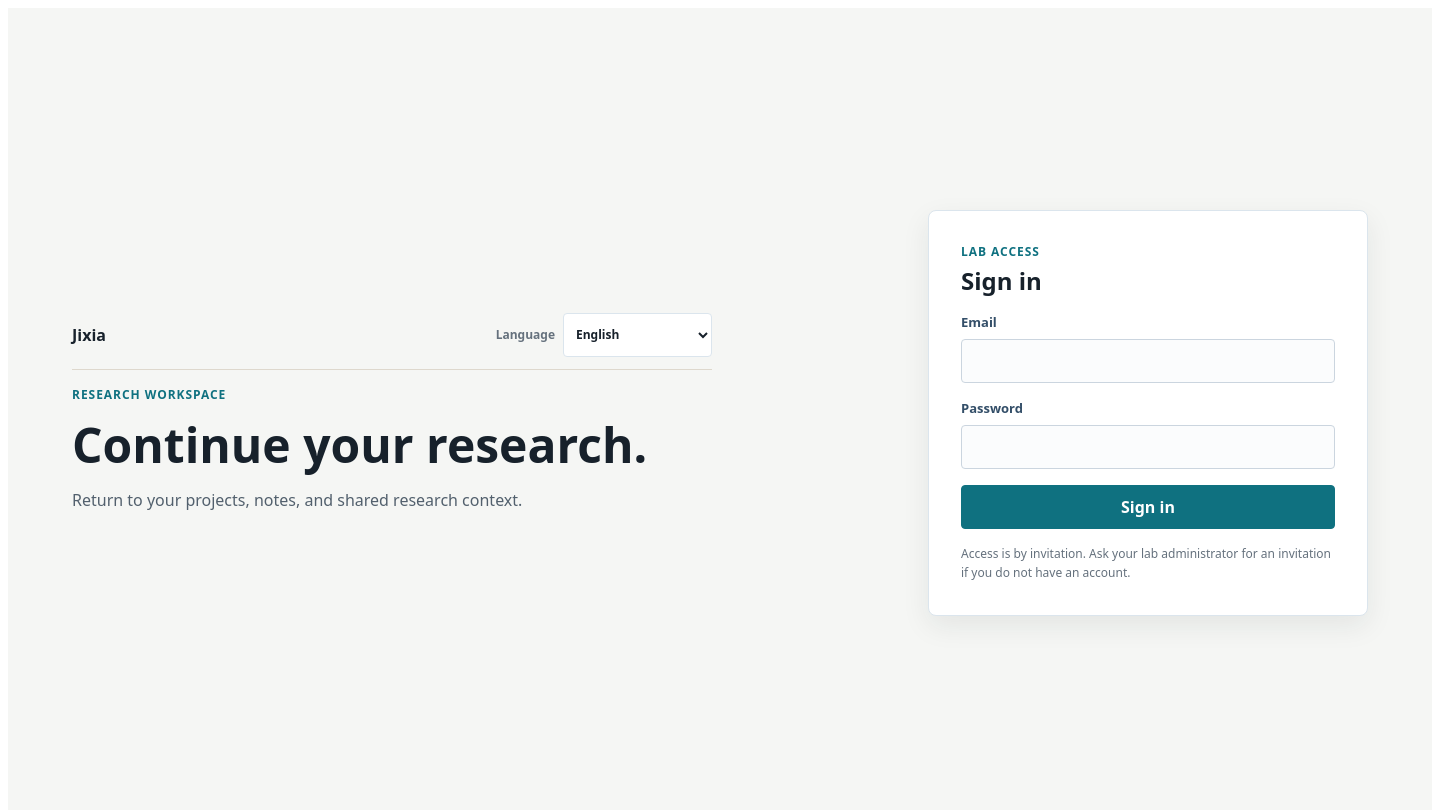
Test: App › owns locale state above login and synchronizes the document language
Select "Simplified Chinese" in the dropdown labelled "Language" at (638, 335), box [563,313,712,357]
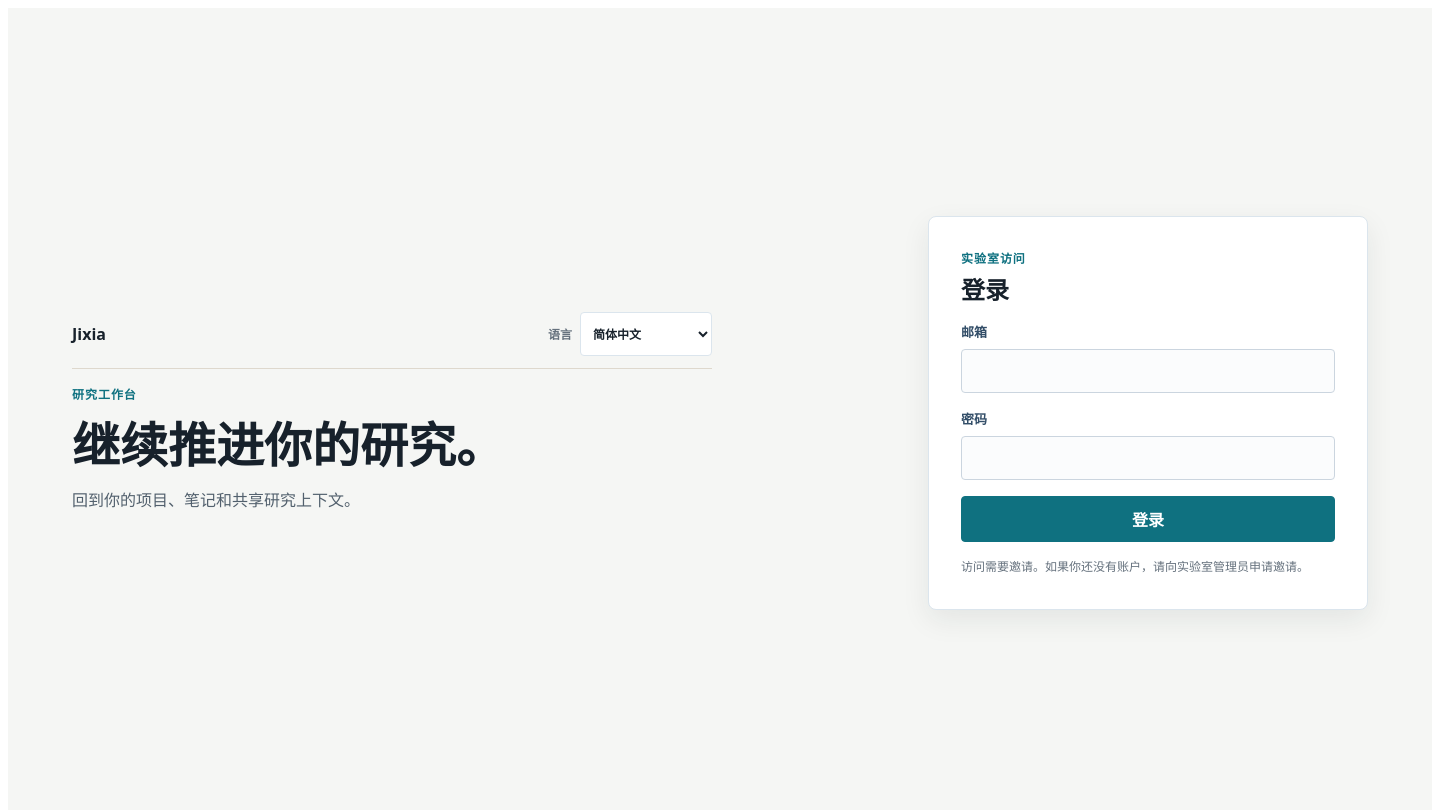
Expected: the field labelled "邮箱" is shown, [961,349,1335,393]
Expected: the heading "继续推进你的研究。" is shown, [72,412,504,477]
